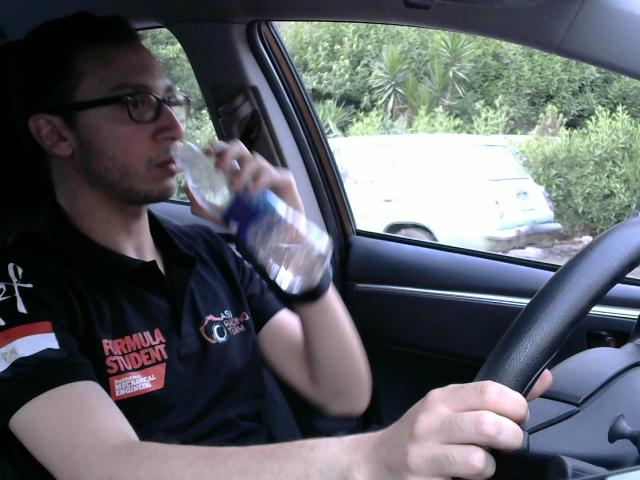Drinking: (159, 127, 337, 299)
